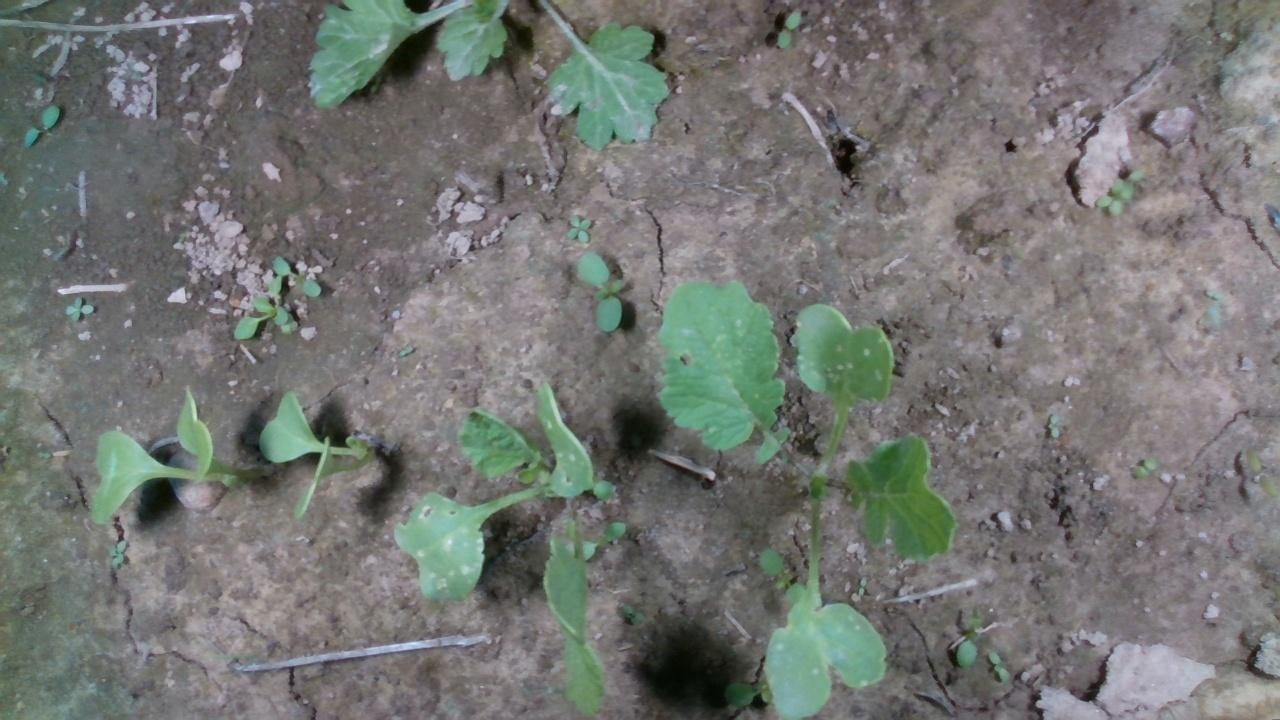weed: (575, 249, 623, 332), (21, 103, 60, 147), (774, 8, 802, 50), (985, 648, 1011, 683), (63, 295, 94, 321), (566, 211, 591, 242), (105, 536, 127, 568), (1130, 454, 1157, 477), (1046, 410, 1060, 439)
